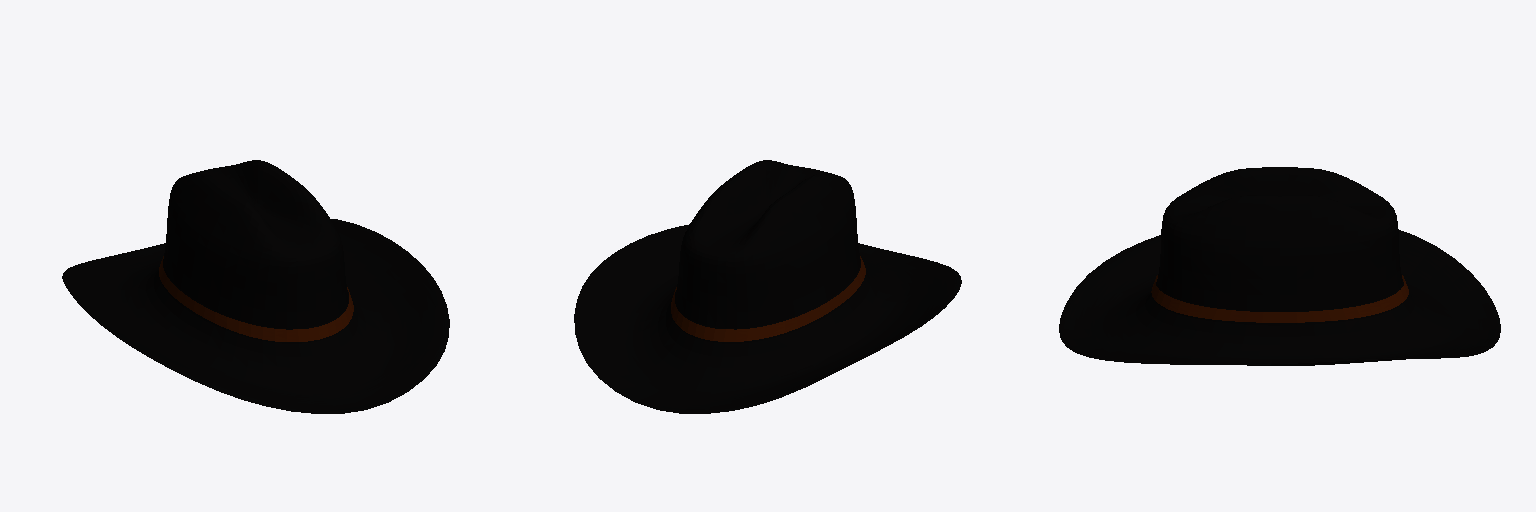
Rendered from cowboy_hat_gray.obj.
The picture shows the model from 3 angles: view 1: azimuth 30°, elevation 25°; view 2: azimuth 150°, elevation 25°; view 3: azimuth 270°, elevation 25°; orthographic projection.
Parts seen in each view (by area): view 1: Circle.001_None; view 2: Circle.001_None; view 3: Circle.001_None.
Part boxes in pixels (x1,y1,x2,y2): Circle.001_None: (62,160,449,413); Circle.001_None: (574,160,961,413); Circle.001_None: (1059,167,1500,365).
Size of the model in its own units: 0.1895 by 0.0876 by 0.2376.